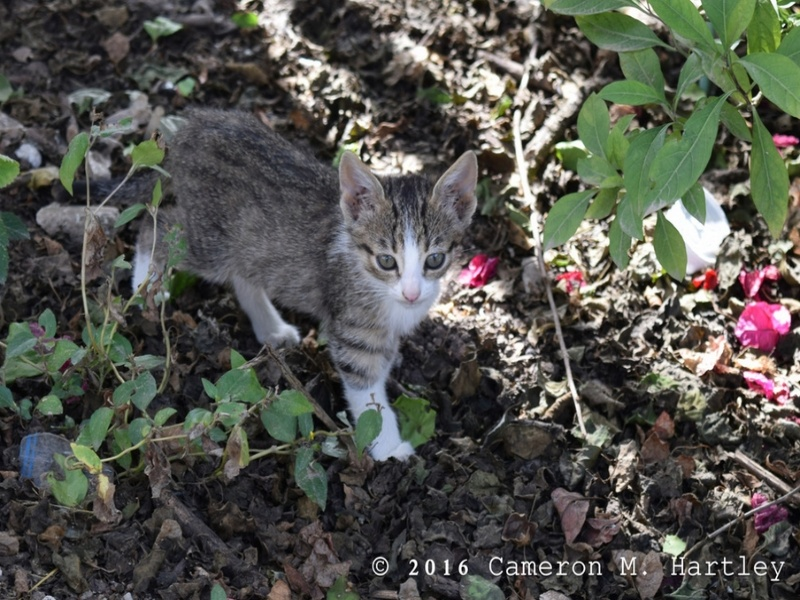cat: (81, 101, 486, 471)
